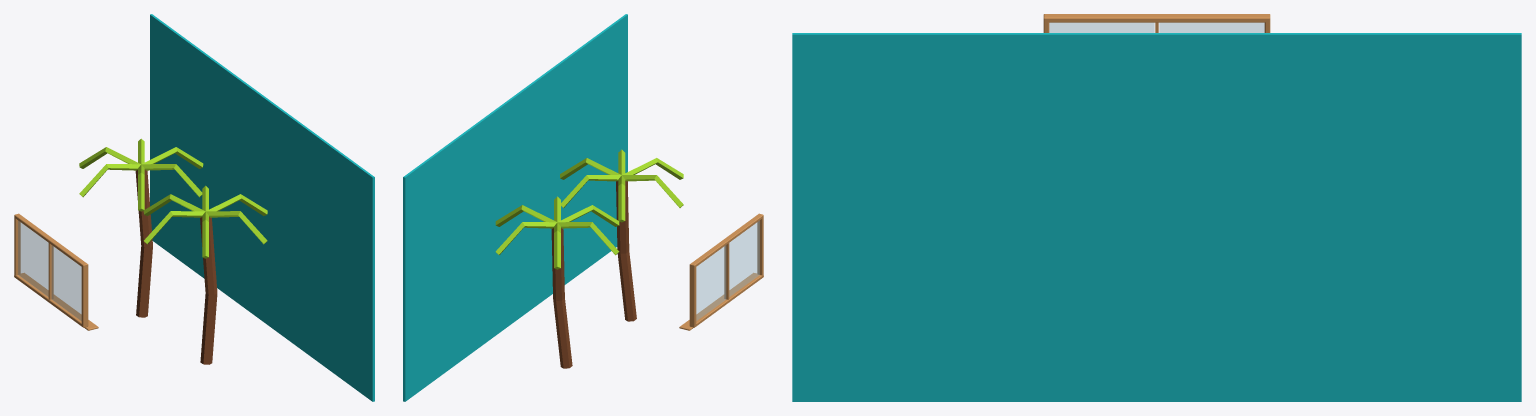
3 views of the same model, side by side, from view 1: azimuth 30°, elevation 25°; view 2: azimuth 150°, elevation 25°; view 3: azimuth 270°, elevation 25° (orthographic). The views are drawn at different scales.
Visible parts, largest first — view 1: sky, window_r, palm_0, palm_1, casement_r_glass, casement_l_glass, palm_0_trunk, palm_1_trunk, window_r_sill; view 2: sky, window_r, palm_0, palm_1, casement_l_glass, casement_r_glass, palm_0_trunk, palm_1_trunk, window_r_sill; view 3: sky, window_r, casement_l_glass, casement_r_glass.
Boxes of the visible parts, x1,y1,x2,y2 form: sky: (150, 14, 374, 401); window_r: (14, 213, 88, 327); palm_0: (143, 185, 267, 258); palm_1: (79, 138, 203, 211); casement_r_glass: (18, 221, 48, 296); casement_l_glass: (52, 245, 81, 320); palm_0_trunk: (200, 217, 217, 364); palm_1_trunk: (135, 169, 152, 317); window_r_sill: (14, 273, 98, 330); sky: (403, 14, 627, 401); window_r: (689, 213, 763, 327); palm_0: (560, 149, 683, 222); palm_1: (495, 196, 619, 269); casement_l_glass: (729, 221, 759, 296); casement_r_glass: (696, 245, 725, 320); palm_0_trunk: (616, 181, 636, 321); palm_1_trunk: (551, 228, 572, 368); window_r_sill: (679, 273, 763, 330); sky: (792, 33, 1521, 401); window_r: (1043, 14, 1270, 32); casement_l_glass: (1049, 23, 1154, 32); casement_r_glass: (1159, 23, 1264, 32).
Size of the model in its own units: 5.01 by 5.01 by 9.
